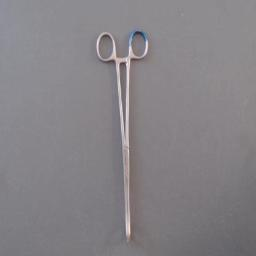Sponge Forceps: (92, 26, 152, 246)
